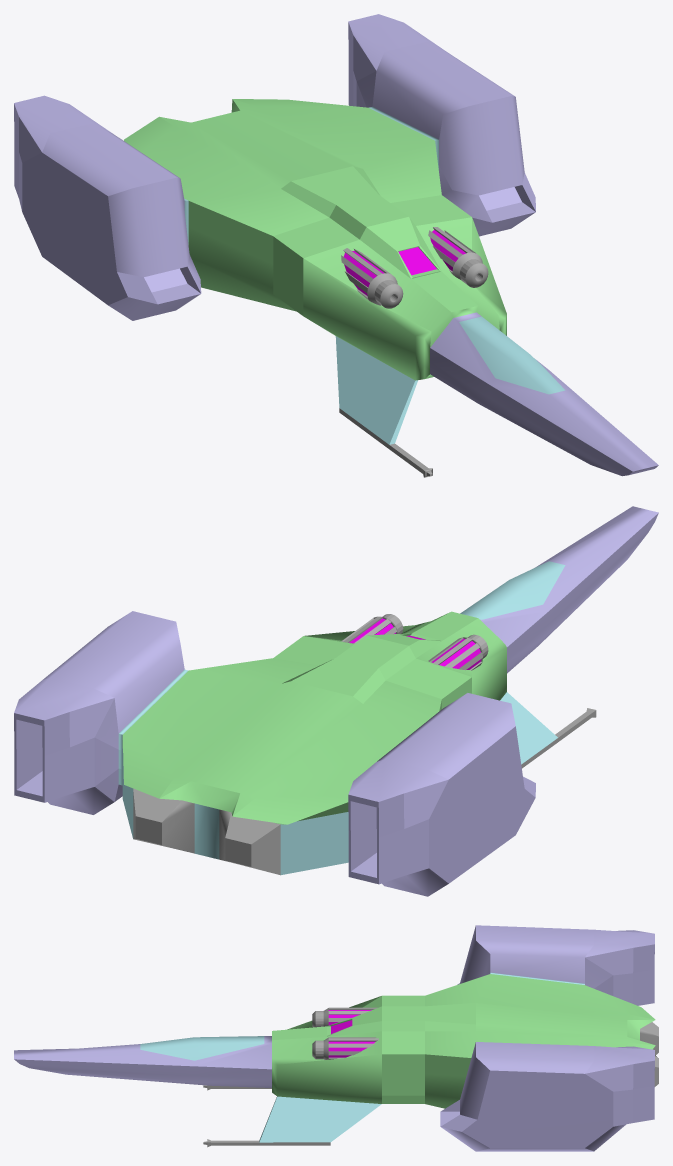
The model's file is playership_01_incolor_06.fbx.
3 views of the same model, one above another, from view 1: azimuth 30°, elevation 25°; view 2: azimuth 150°, elevation 25°; view 3: azimuth 270°, elevation 25° (orthographic). The views are drawn at different scales.
Parts seen in each view (by area): view 1: polySurface1; view 2: polySurface1; view 3: polySurface1.
Part boxes in pixels (x1,y1,x2,y2): polySurface1: (14, 14, 658, 477); polySurface1: (14, 506, 658, 896); polySurface1: (14, 925, 658, 1151).
Size of the model in its own units: 11.08 by 4.6 by 21.29.
